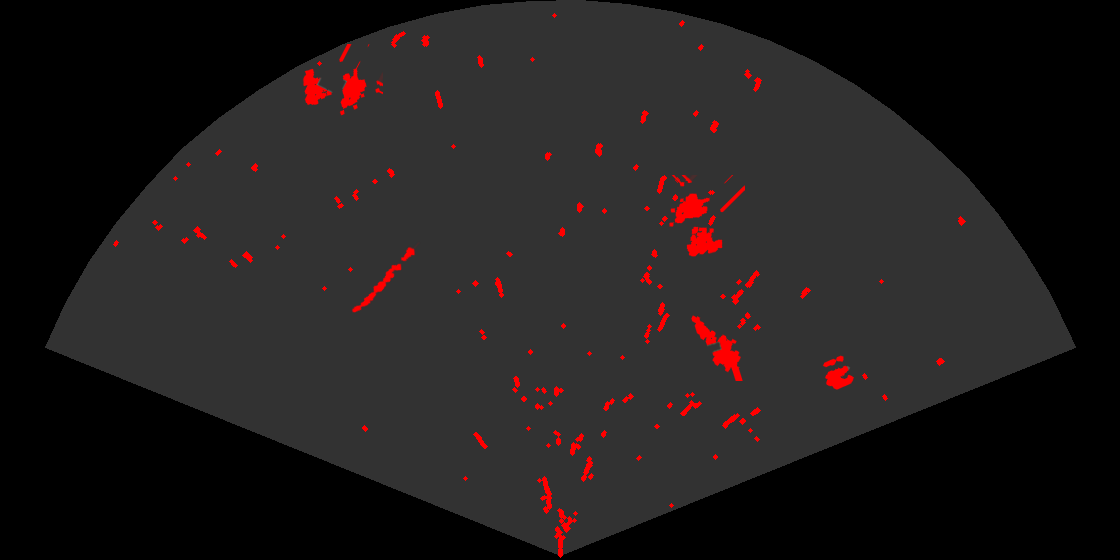ball: (821, 354, 856, 391)
cage: (668, 175, 745, 258), (301, 44, 383, 117)
chain: (350, 241, 421, 314)
frogman: (690, 314, 744, 381)
